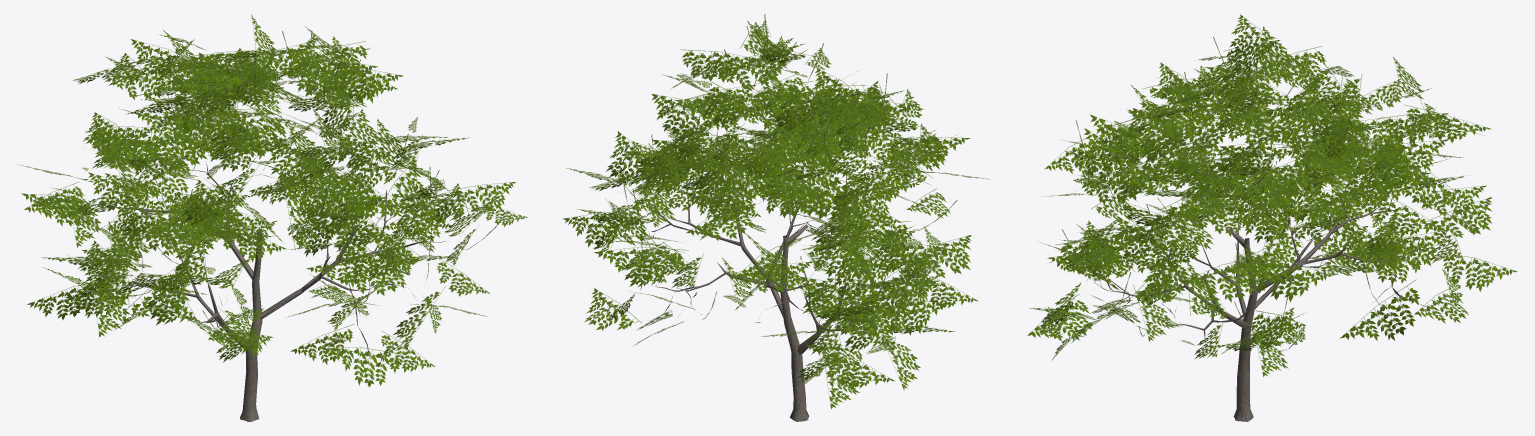
The model's file is chinaberry_young_far.glb.
The picture shows the model from 3 angles, left to right: view 1: azimuth 30°, elevation 25°; view 2: azimuth 150°, elevation 25°; view 3: azimuth 270°, elevation 25°; orthographic projection. The views are drawn at different scales.
Visible parts, largest first — view 1: Melia_azedarach_HD_Melia bark 01_0; view 2: Melia_azedarach_HD_Melia bark 01_0; view 3: Melia_azedarach_HD_Melia bark 01_0.
Part boxes in pixels (left/top/right/bottom): Melia_azedarach_HD_Melia bark 01_0: left=17, top=14, right=527, bottom=421; Melia_azedarach_HD_Melia bark 01_0: left=563, top=14, right=989, bottom=421; Melia_azedarach_HD_Melia bark 01_0: left=1027, top=14, right=1517, bottom=421.
Size of the model in its own units: 5.29 by 4.47 by 5.16.
2 materials, 2 textured.
